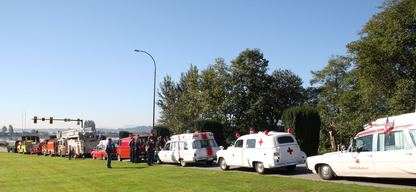ambulance: (305, 112, 416, 179), (217, 128, 308, 175), (153, 130, 225, 165)
